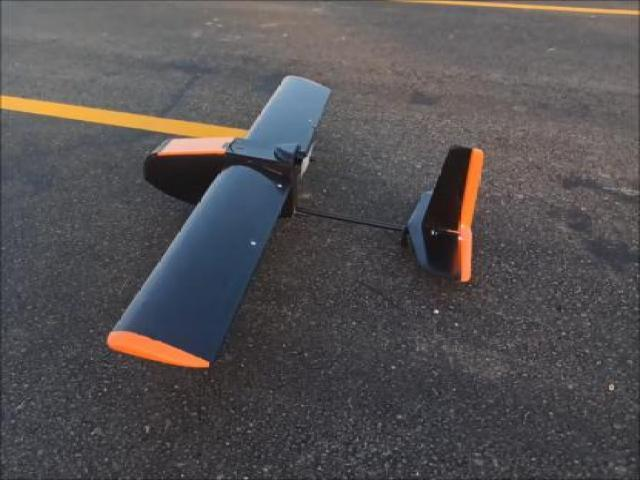uav: (92, 72, 505, 383)
